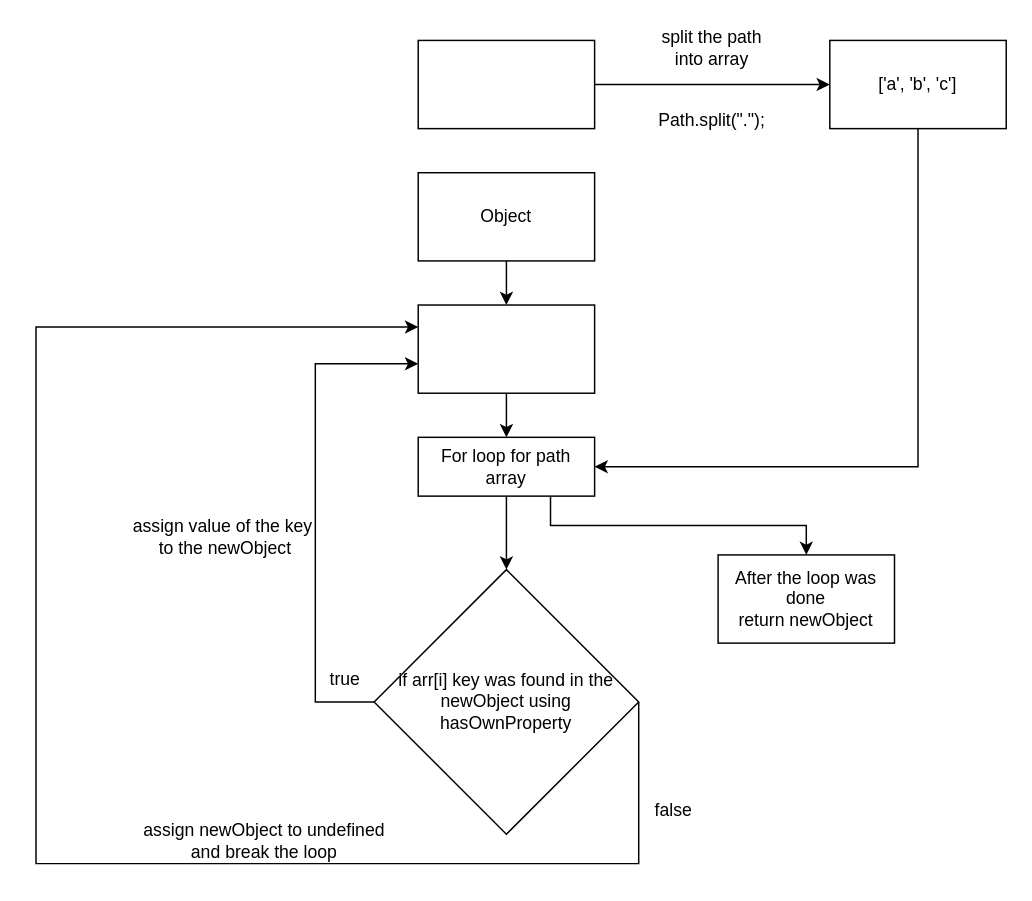
Some shapes in this 1032 by 901 pixel diagram are drawn without their labels. Here are the shapes that lost their labels. From the top down, the box of each, then its label:
(417, 39, 595, 129): Path
(417, 304, 595, 393): newObject
